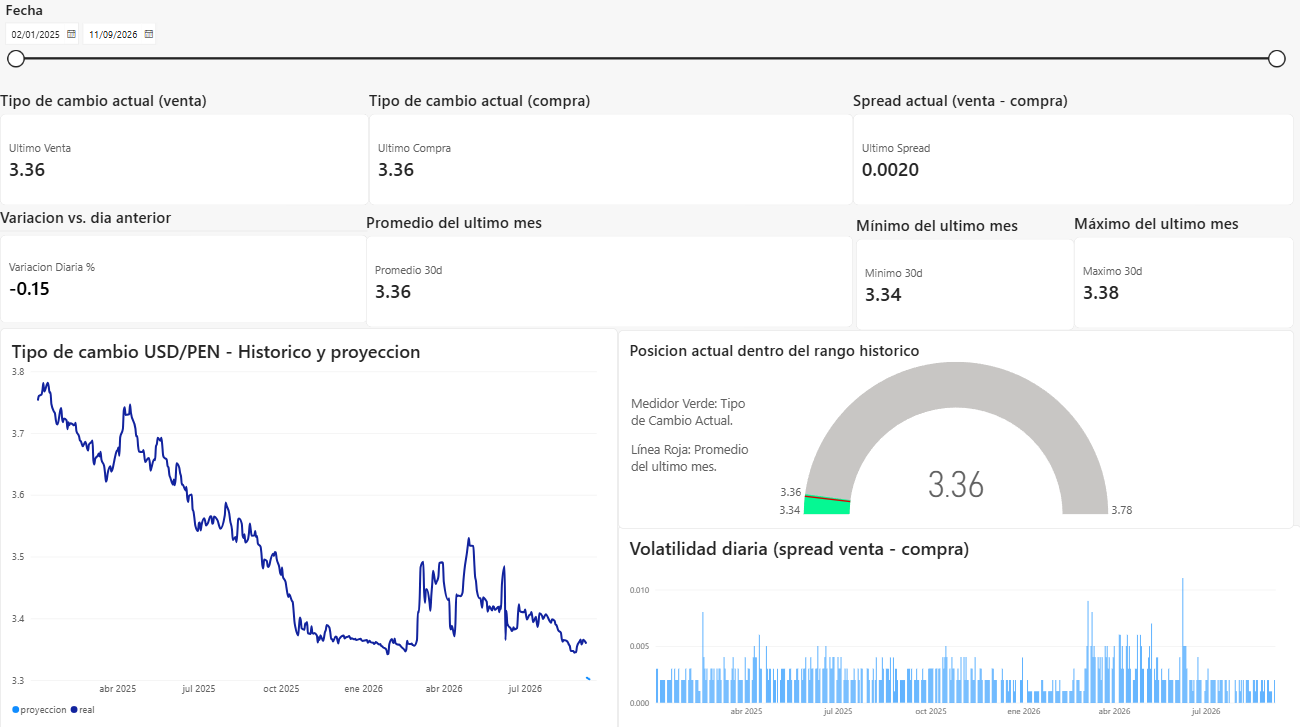

What the dashboard file says about the page in this screenshot:
{"tool":"powerbi","page":{"name":"Página 1","canvas":[1920,1080],"ordinal":0},"visuals":[{"type":"lineChart","title":"Tipo de cambio USD/PEN - Historico y proyeccion","fields":{"Category":["proyeccion.fecha"],"Series":["proyeccion.tipo"],"Y":["Avg(proyeccion.valor)"]},"box":[0,485.2,911.3,594.3],"z":0},{"type":"cardVisual","title":"Tipo de cambio actual (venta)","fields":{"Data":["tipo_cambio.TipodeCambioActualVenta"]},"box":[0,134,544,170],"z":1000},{"type":"cardVisual","title":"Tipo de cambio actual (compra)","fields":{"Data":["tipo_cambio.Ultimo Compra"]},"box":[544,134,714,170],"z":2000},{"type":"cardVisual","title":"Spread actual (venta - compra)","fields":{"Data":["tipo_cambio.Ultimo Spread"]},"box":[1258,134,650,170],"z":3000},{"type":"columnChart","title":"Volatilidad diaria (spread venta - compra)","fields":{"Category":["tipo_cambio.fecha"],"Y":["Sum(tipo_cambio.spread)"]},"box":[912,776,1008,304],"z":4000},{"type":"slicer","fields":{"Values":["proyeccion.fecha"]},"box":[0,0,1908,170],"z":4001},{"type":"cardVisual","title":"Variacion vs. dia anterior","fields":{"Data":["tipo_cambio.Variacion Diaria %"]},"box":[0,306,542,170],"z":4002},{"type":"cardVisual","title":"Máximo del ultimo mes","fields":{"Data":["tipo_cambio.Maximo 30d"]},"box":[1584,316,324,170],"z":4003},{"type":"cardVisual","title":"Mínimo del ultimo mes","fields":{"Data":["tipo_cambio.Minimo 30d"]},"box":[1262,318,322,170],"z":4004},{"type":"cardVisual","title":"Promedio del ultimo mes","fields":{"Data":["tipo_cambio.Promedio 30d"]},"box":[540,314,718,170],"z":4005},{"type":"gauge","title":"Posicion actual dentro del rango historico","fields":{"MaxValue":["tipo_cambio.Maximo Historico"],"MinValue":["tipo_cambio.Minimo Historico"],"TargetValue":["tipo_cambio.Promedio 30d"],"Y":["tipo_cambio.Ultimo Venta"]},"box":[911.3,488.1,996.9,293.5],"z":4006},{"type":"textbox","box":[930,582,192,164],"z":4007}]}

Visuals, with their boxes in screenshot pixels (x1, y1, x2, y2), scaled from the page's 1920x1080 canvas onto the 1300x727 screenshot:
"Tipo de cambio USD/PEN - Historico y proyeccion" lineChart: bbox(0, 327, 617, 726)
"Tipo de cambio actual (venta)" cardVisual: bbox(0, 90, 368, 205)
"Tipo de cambio actual (compra)" cardVisual: bbox(368, 90, 852, 205)
"Spread actual (venta - compra)" cardVisual: bbox(852, 90, 1292, 205)
"Volatilidad diaria (spread venta - compra)" columnChart: bbox(618, 522, 1299, 726)
slicer - proyeccion.fecha: bbox(0, 0, 1292, 114)
"Variacion vs. dia anterior" cardVisual: bbox(0, 206, 367, 320)
"Máximo del ultimo mes" cardVisual: bbox(1072, 213, 1292, 327)
"Mínimo del ultimo mes" cardVisual: bbox(854, 214, 1072, 328)
"Promedio del ultimo mes" cardVisual: bbox(366, 211, 852, 326)
"Posicion actual dentro del rango historico" gauge: bbox(617, 329, 1292, 526)
textbox: bbox(630, 392, 760, 502)
